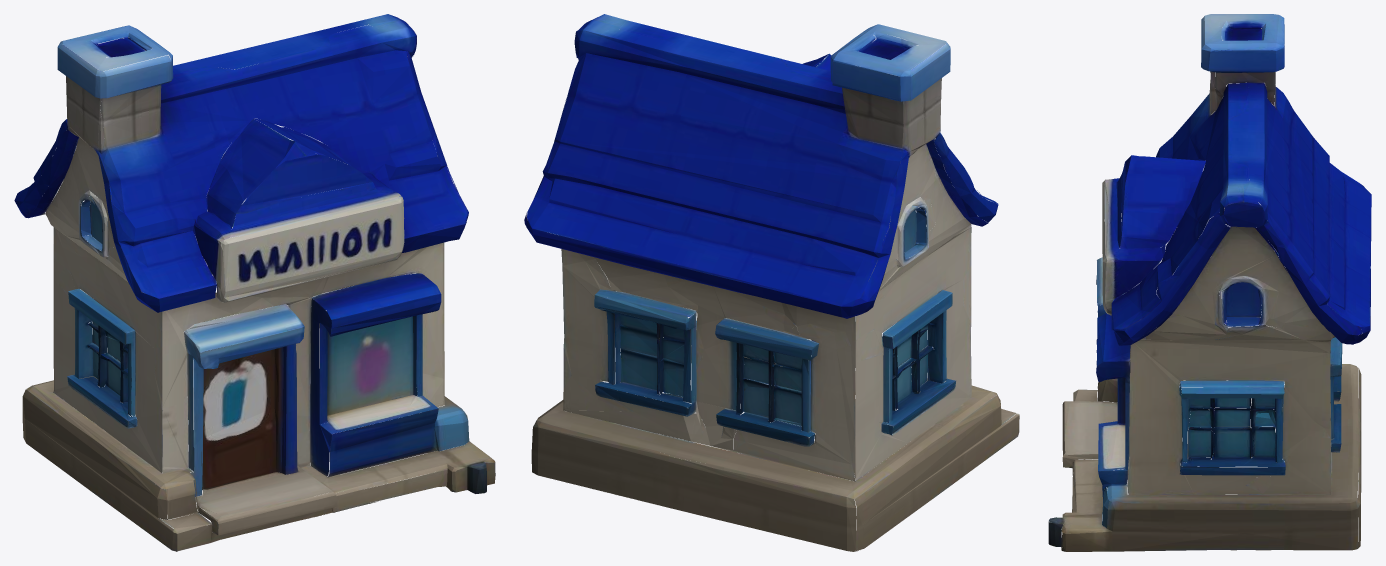
File: royal_blue_roof_business.glb
3 views of the same model, side by side, from view 1: azimuth 30°, elevation 25°; view 2: azimuth 150°, elevation 25°; view 3: azimuth 270°, elevation 25° (orthographic). The views are drawn at different scales.
Parts seen in each view (by area): view 1: geometry_0; view 2: geometry_0; view 3: geometry_0.
Boxes of the visible parts, <box> form: geometry_0: <box>14,14,495,551</box>; geometry_0: <box>524,14,1019,551</box>; geometry_0: <box>1048,14,1371,551</box>.
Bounding box in the file's own units: 0.8032 × 1 × 0.7358.
Materials: 1 (1 with a texture image).
